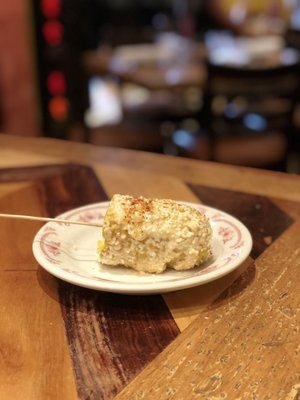curry: (2, 129, 300, 396)
pasta: (0, 163, 109, 219)
sushi: (98, 194, 216, 275)
